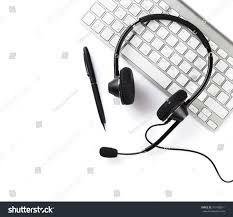pen: (79, 42, 107, 130)
